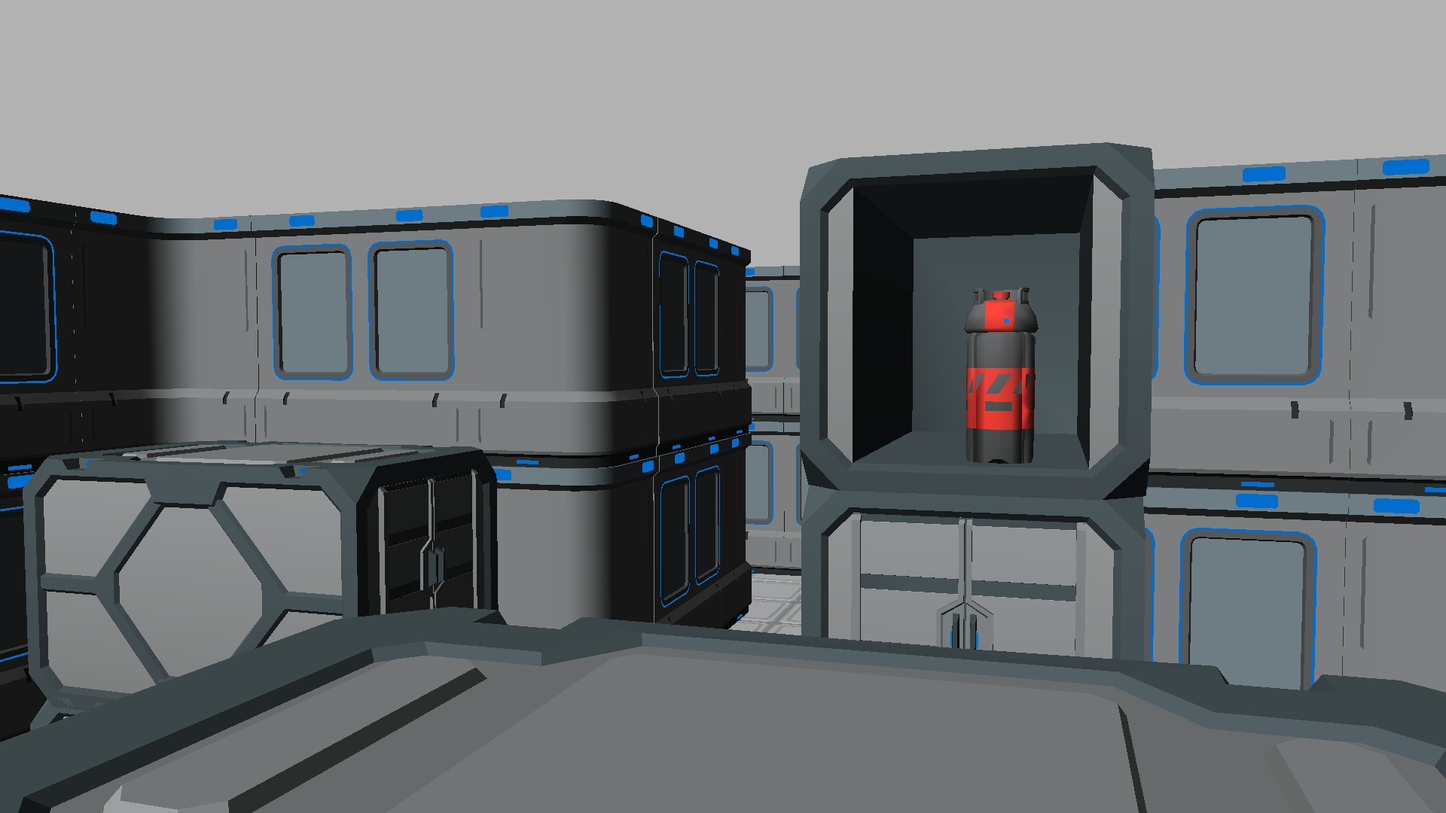red barrel: (964, 288, 1038, 464)
